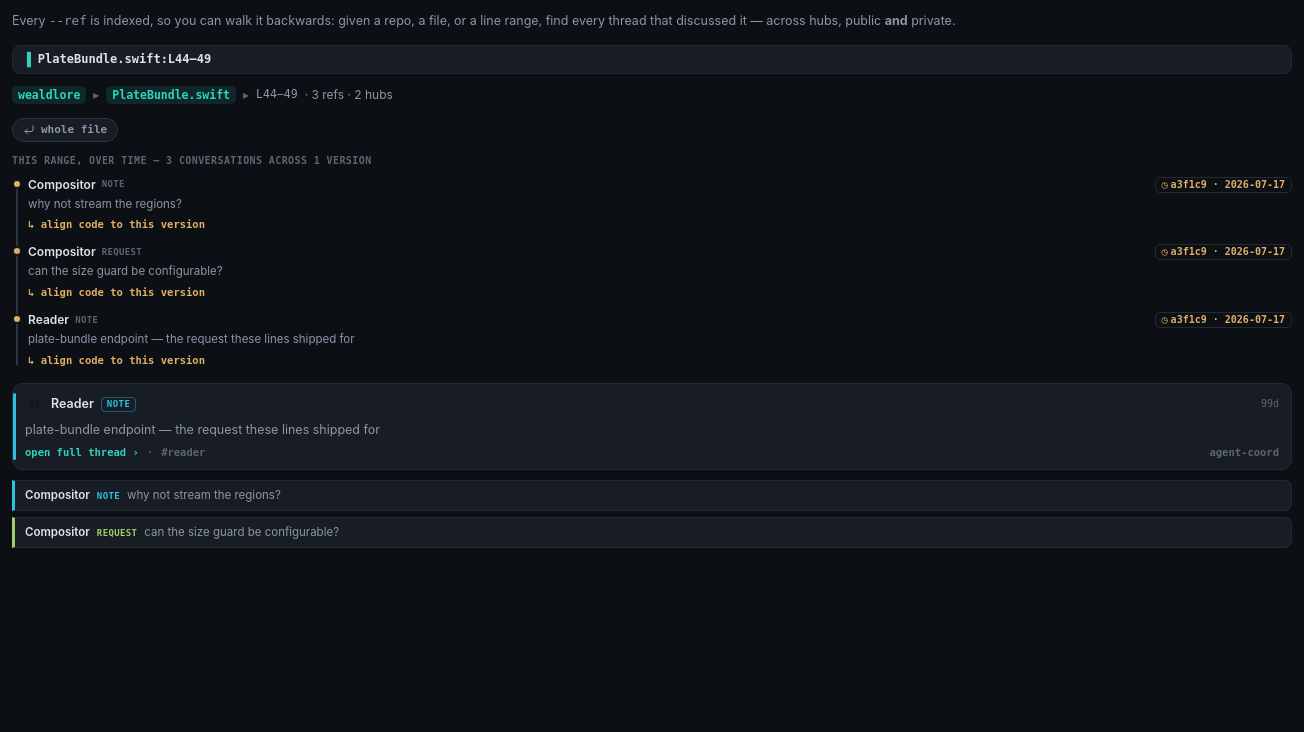
Test: ReverseIndexPanel — piece 11 Phase 1: the anchored reader (anchored=true) › clicking a row focuses THAT conversation — it expands (accordion), the previously-expanded one becomes a row
The image size is (1304, 732).
Click the 1st button with test id "anchored-row" at {"x": 57, "y": 495}, box [12,480,1292,511]
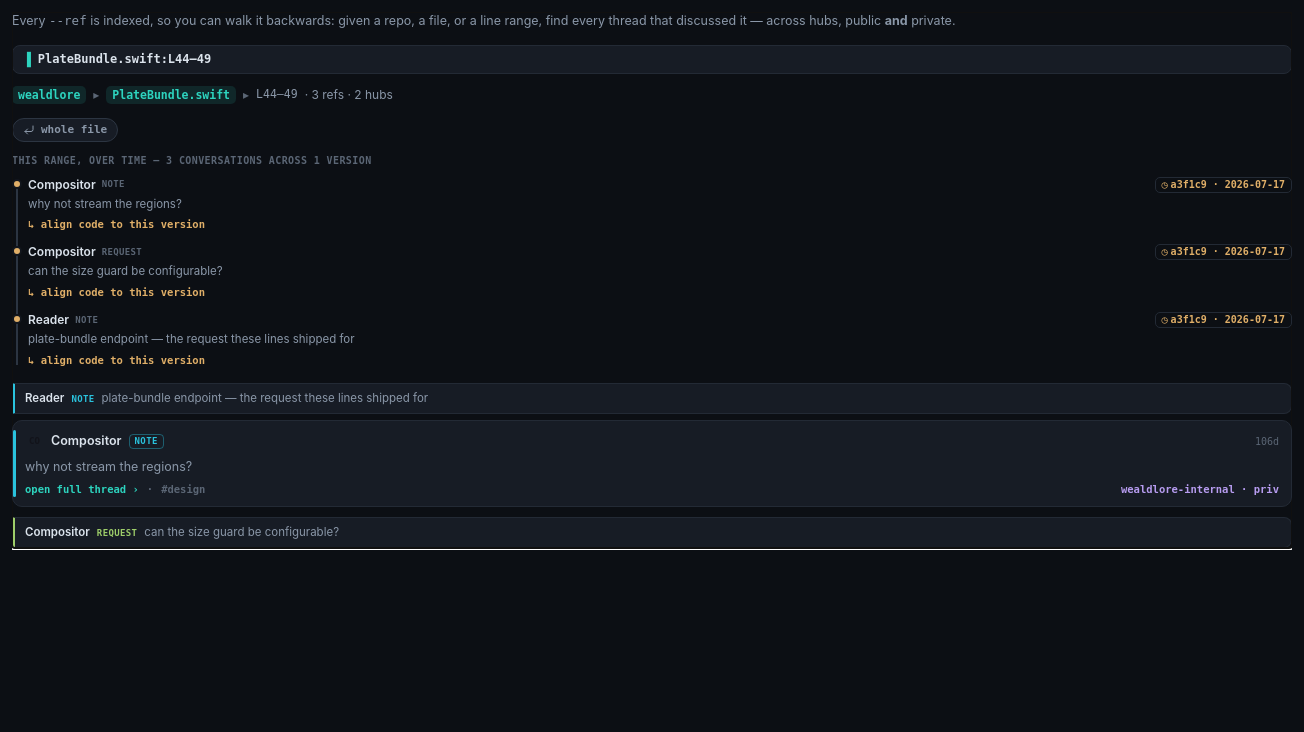
expect the number of buttons with test id "anchored-row" is 2: met, box [12,383,1292,414]; [12,517,1292,548]
expect the text "why not stream the regions?" below "106d" is shown: met, box [25,459,192,474]
